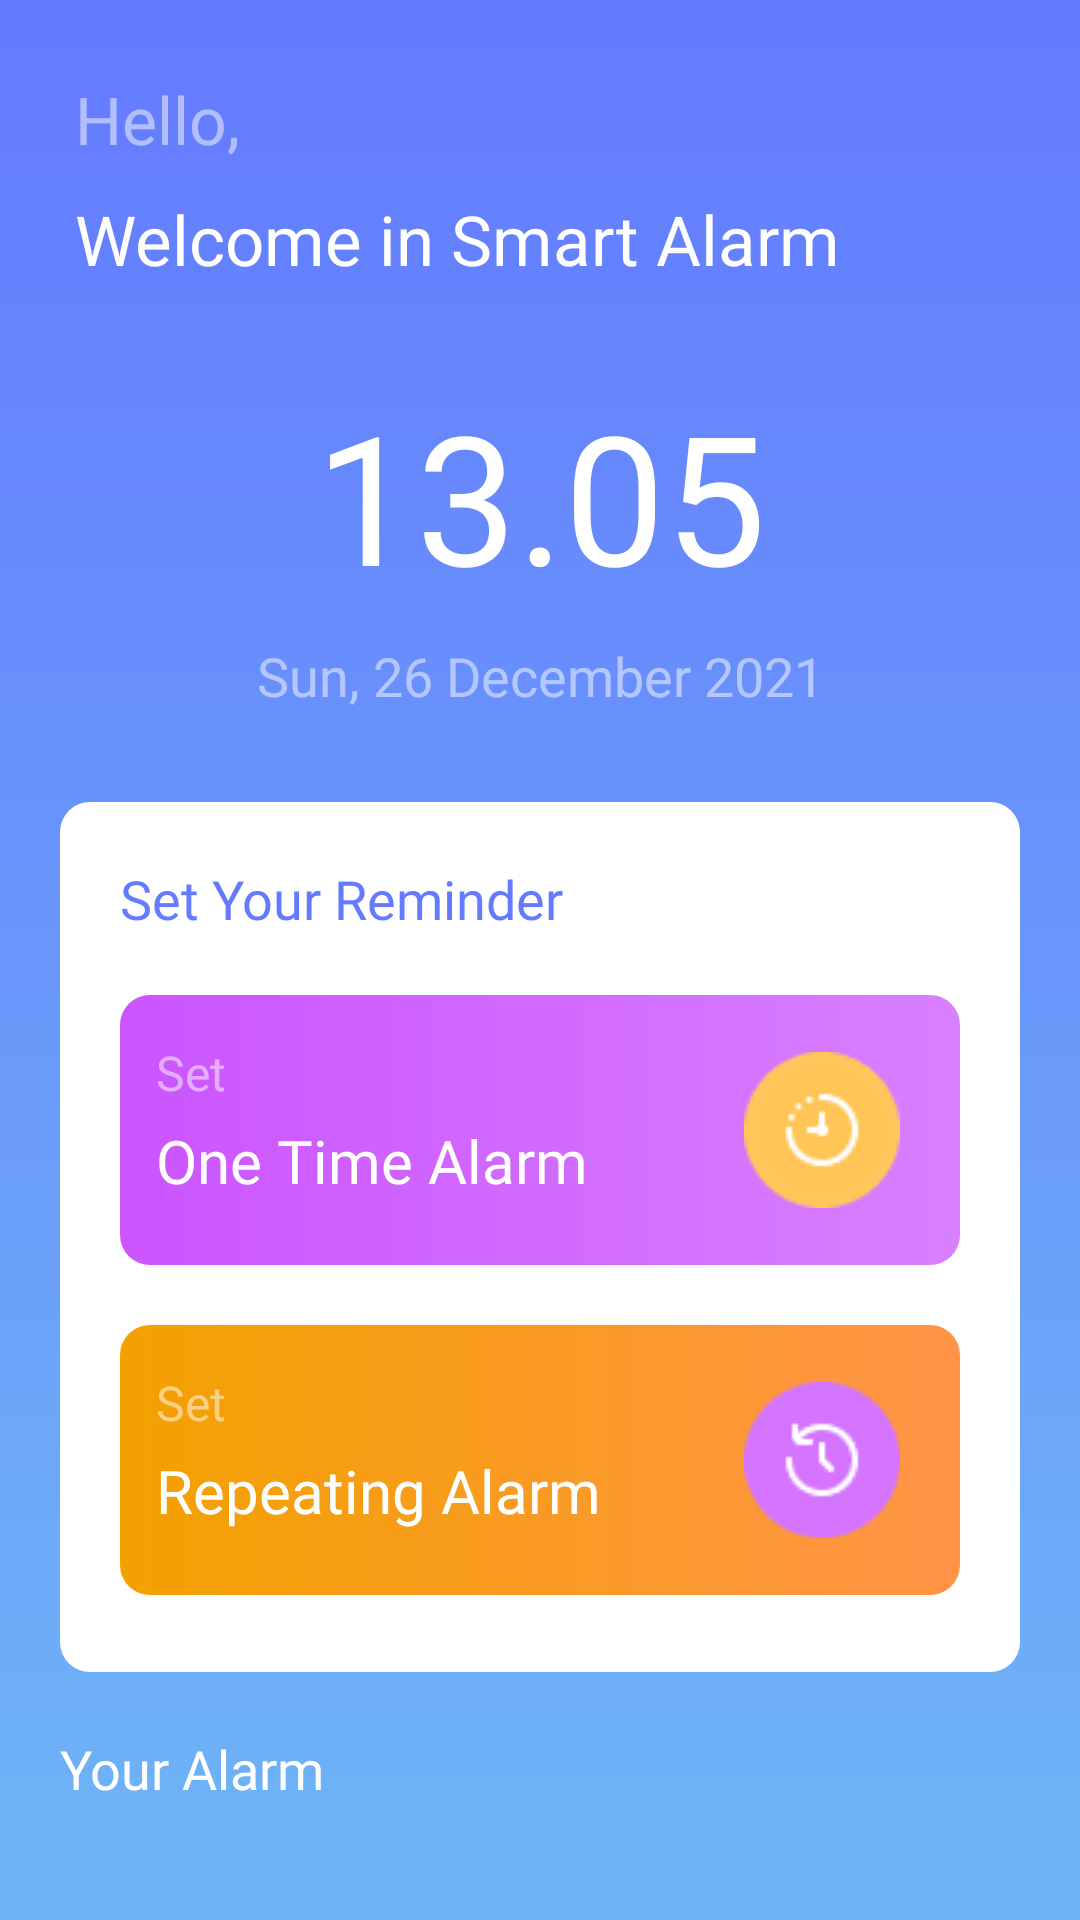

Locate icon controls on the screen. Image size 1080px x 1920px, boxes as (x1, y1, x2, y2).
one time: (744, 1052, 900, 1208)
